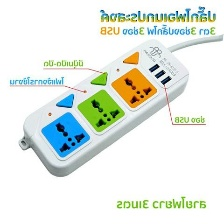three_eye_plug: (18, 35, 196, 179)
